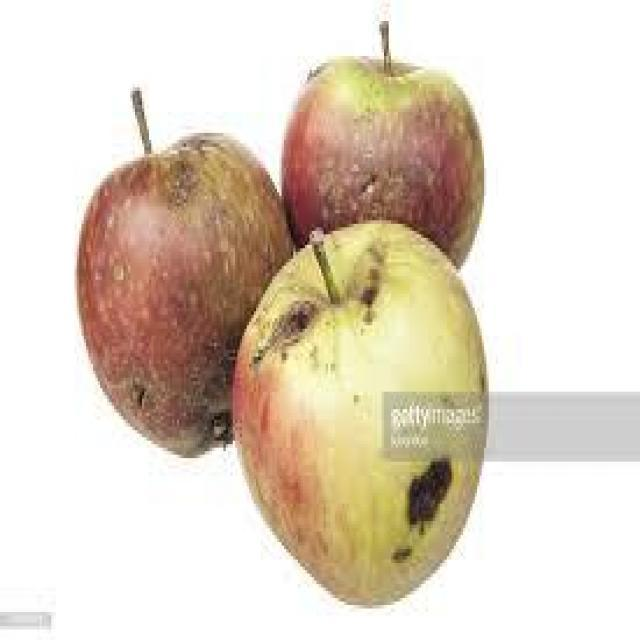Rotten: (245, 232, 483, 576), (85, 117, 287, 445), (280, 64, 488, 274)
